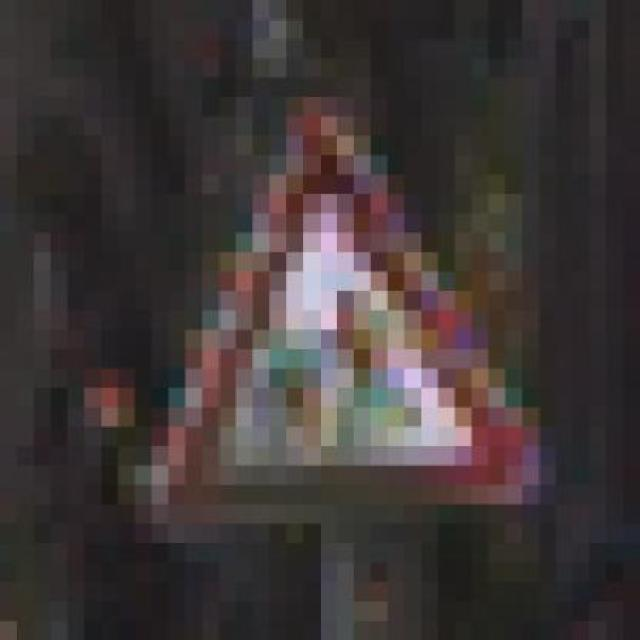Beware of children: (125, 58, 563, 524)
